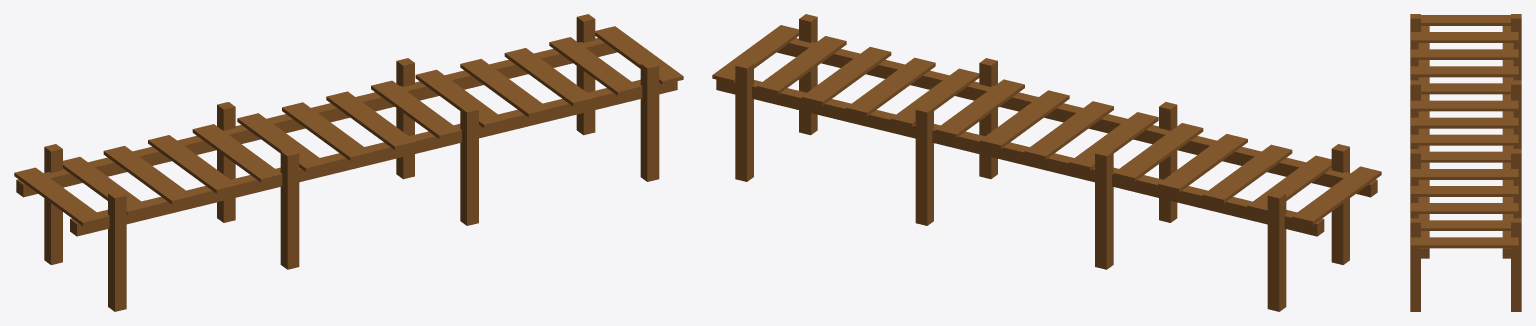
File: Dock.fbx
The picture shows the model from 3 angles, left to right: view 1: azimuth 30°, elevation 25°; view 2: azimuth 150°, elevation 25°; view 3: azimuth 270°, elevation 25°; orthographic projection. The views are drawn at different scales.
Visible parts, largest first — view 1: Cube, Cube.001, Cube.002, Cube.005, Cube.009, Cube.003, Cube.007, Cube.004, Cube.010, Cube.006, Cube.008; view 2: Cube, Cube.002, Cube.001, Cube.004, Cube.008, Cube.006, Cube.010, Cube.003, Cube.007, Cube.005, Cube.009; view 3: Cube, Cube.001, Cube.002, Cube.010, Cube.009, Cube.006, Cube.008, Cube.004, Cube.005, Cube.007, Cube.003.
Part boxes in pixels (box(x1,y1,x2,y2)): Cube: box(14, 26, 683, 226); Cube.001: box(70, 79, 677, 236); Cube.002: box(16, 38, 617, 197); Cube.005: box(280, 148, 299, 269); Cube.009: box(640, 60, 659, 181); Cube.003: box(108, 190, 126, 311); Cube.007: box(460, 105, 478, 225); Cube.004: box(44, 144, 62, 264); Cube.010: box(576, 14, 595, 135); Cube.006: box(217, 102, 235, 222); Cube.008: box(396, 58, 414, 179); Cube: box(712, 25, 1381, 224); Cube.002: box(716, 79, 1324, 236); Cube.001: box(777, 38, 1377, 197); Cube.004: box(1267, 190, 1286, 311); Cube.008: box(915, 105, 933, 225); Cube.006: box(1095, 148, 1113, 269); Cube.010: box(735, 61, 753, 181); Cube.003: box(1331, 144, 1349, 264); Cube.007: box(979, 58, 997, 178); Cube.005: box(1159, 102, 1177, 222); Cube.009: box(799, 14, 817, 135); Cube: box(1411, 15, 1518, 248); Cube.001: box(1418, 26, 1429, 258); Cube.002: box(1502, 26, 1513, 258); Cube.010: box(1511, 218, 1521, 311); Cube.009: box(1410, 218, 1420, 311); Cube.006: box(1511, 80, 1521, 148); Cube.008: box(1511, 149, 1521, 218); Cube.004: box(1511, 14, 1521, 80); Cube.005: box(1410, 80, 1420, 148); Cube.007: box(1410, 149, 1420, 218); Cube.003: box(1410, 14, 1420, 80).
Size of the model in its own units: 544 by 98.01 by 111.
